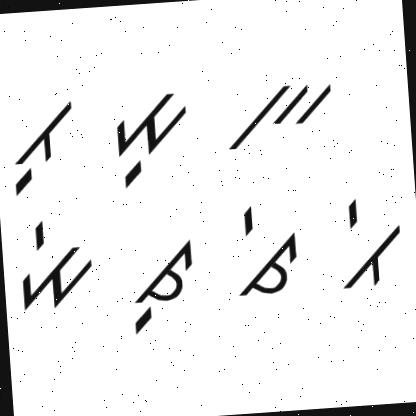be: (328, 191, 406, 298)
bu: (5, 88, 82, 197)
ce: (224, 201, 309, 305)
cu: (118, 233, 206, 337)
me: (12, 214, 100, 313)
mu: (101, 90, 199, 190)
